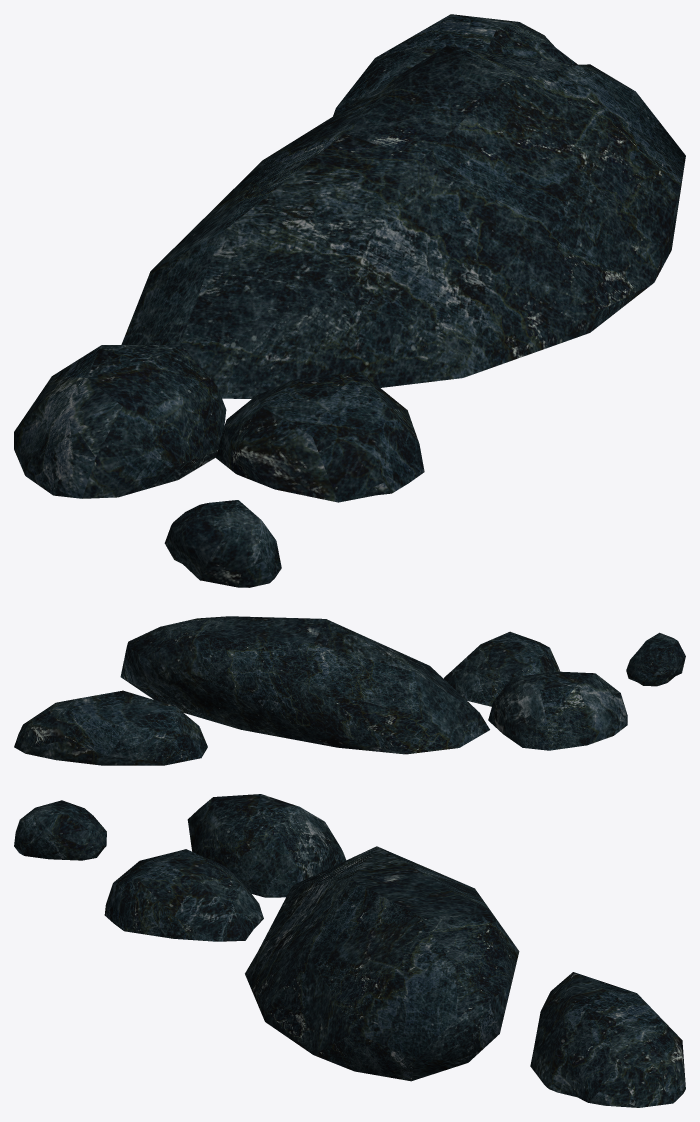
Rendered from PT_River_Rock_Pile_03.fbx.
3 renders of one model, top to bottom at view 1: azimuth 30°, elevation 25°; view 2: azimuth 150°, elevation 25°; view 3: azimuth 270°, elevation 25°, orthographic. The views are drawn at different scales.
Visible parts, largest first — view 1: PT_River_Rock_Pile_02_LOD0.001; view 2: PT_River_Rock_Pile_02_LOD0.001; view 3: PT_River_Rock_Pile_02_LOD0.001.
Boxes of the visible parts, x1,y1,x2,y2 form: PT_River_Rock_Pile_02_LOD0.001: (14, 14, 685, 587); PT_River_Rock_Pile_02_LOD0.001: (14, 616, 685, 765); PT_River_Rock_Pile_02_LOD0.001: (14, 794, 685, 1107).
Bounding box in the file's own units: 519 × 97.68 × 524.
1 material, 1 textured.
